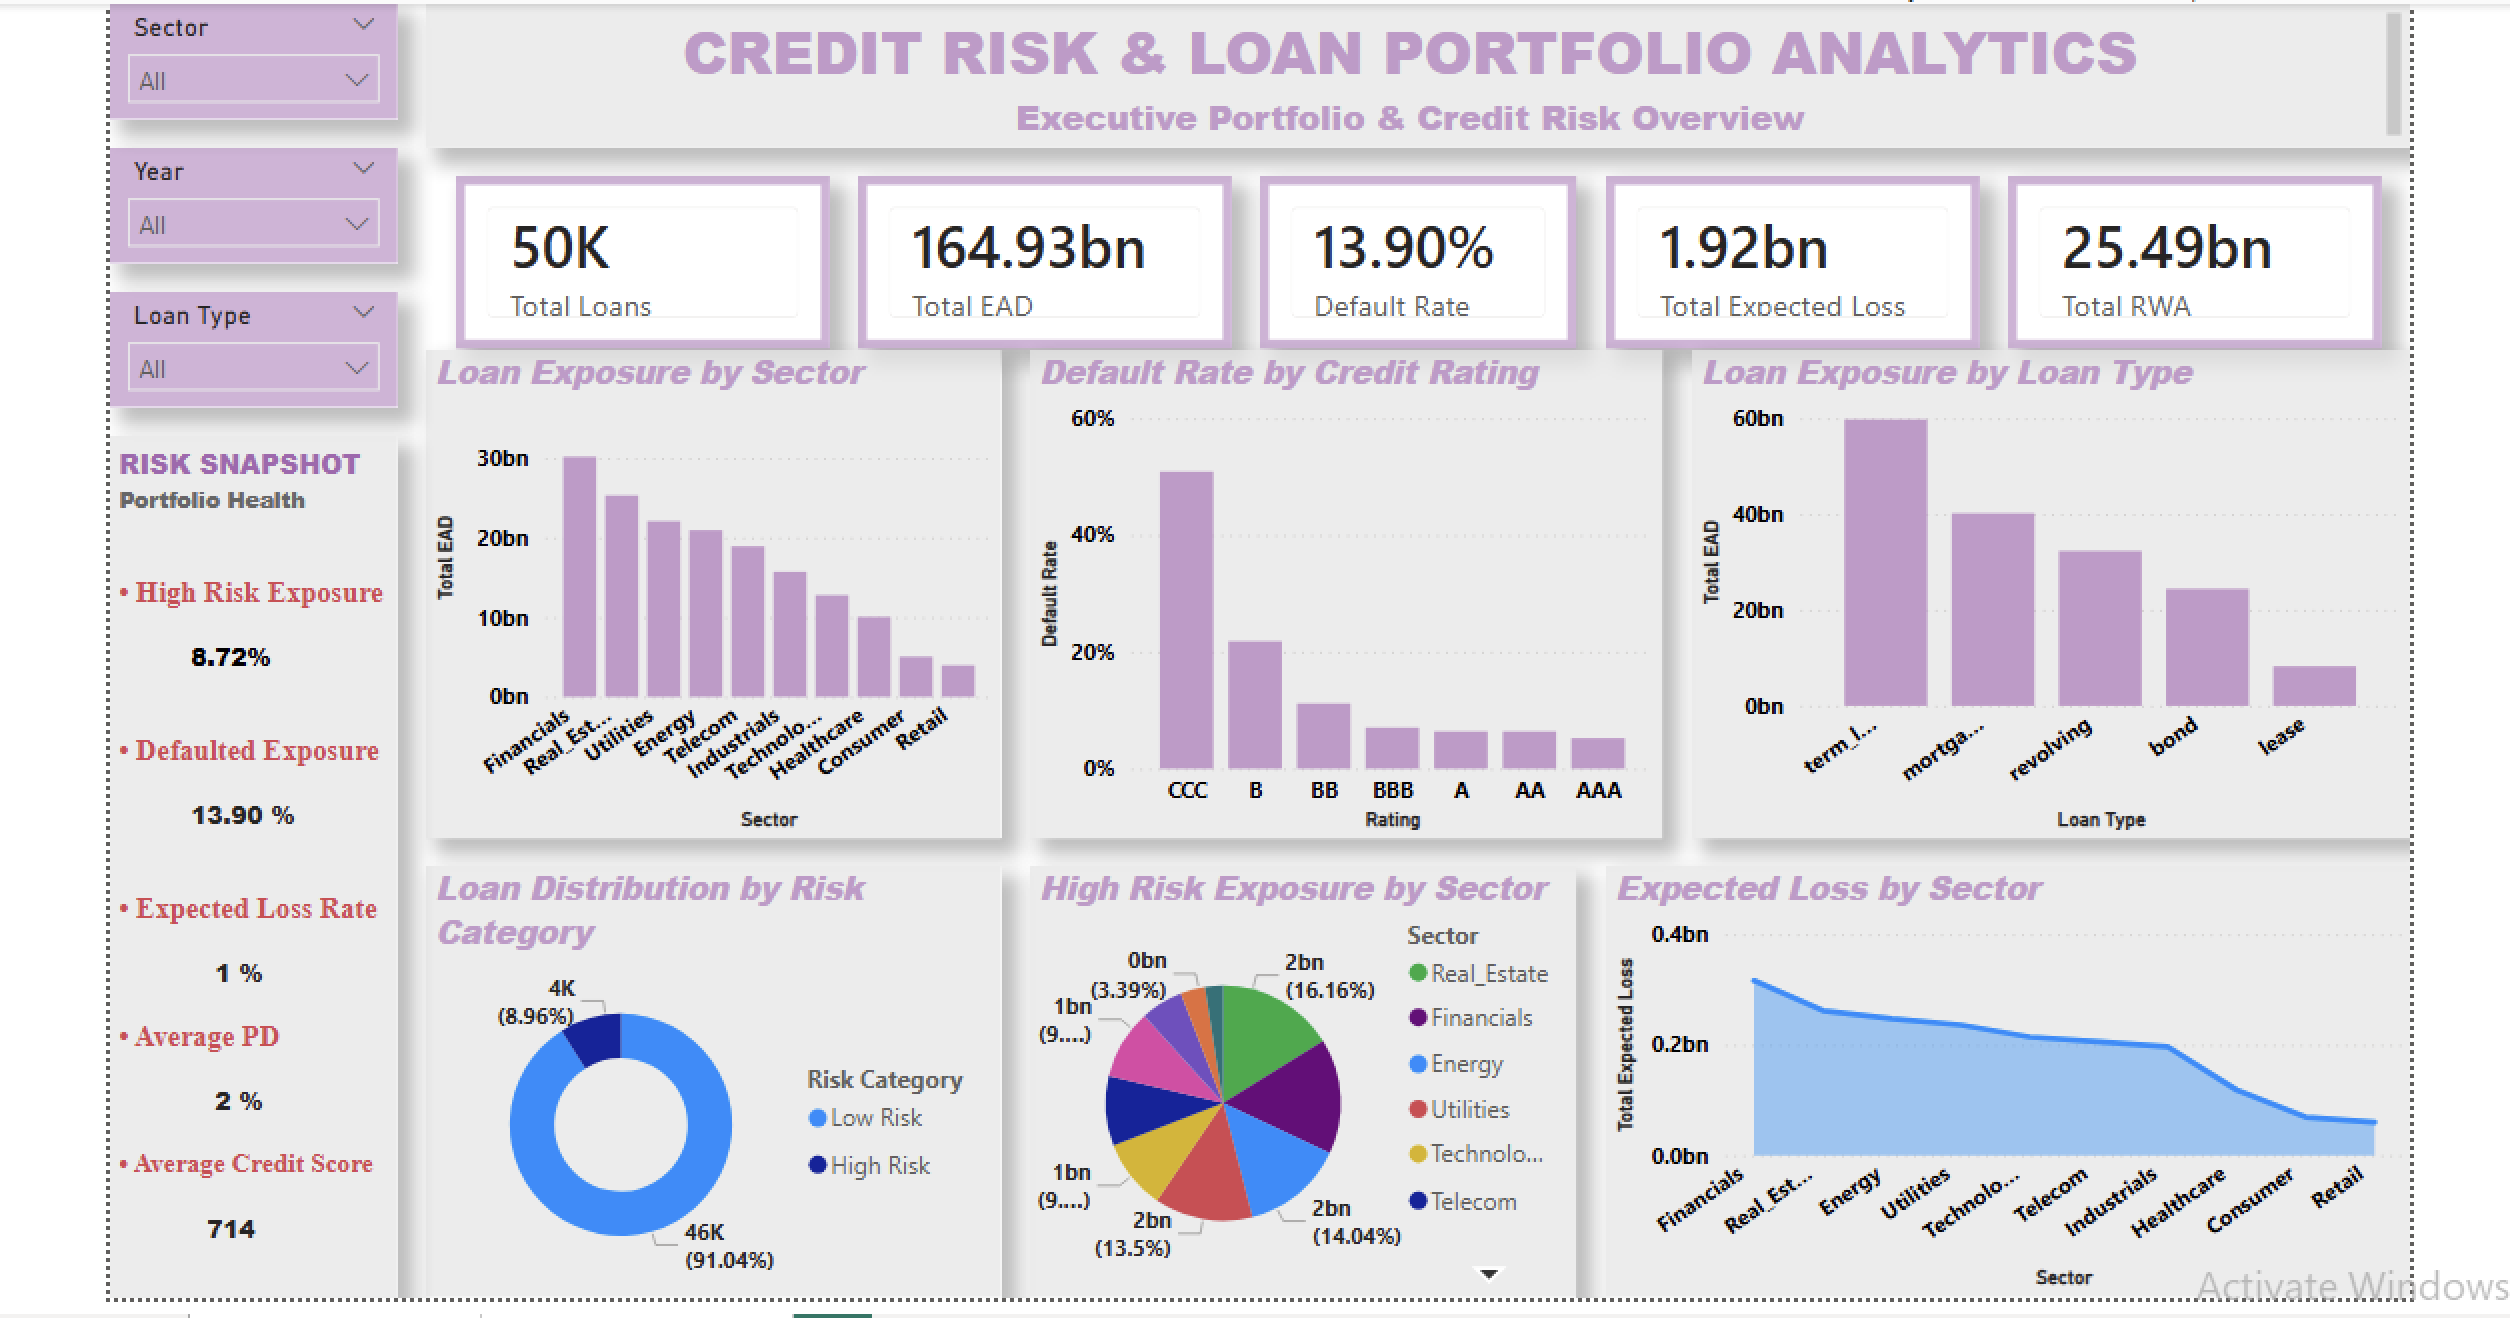

Layout of this report page (visuals, bound fields, positions):
{"tool":"powerbi","page":{"name":"Executive Overview","canvas":[1280,720],"ordinal":0},"visuals":[{"type":"cardVisual","fields":{"Data":["loan_portfolio.Total EDA"]},"box":[416,96,208,96],"z":0},{"type":"cardVisual","fields":{"Data":["loan_portfolio.Total Loans"]},"box":[192,96,208,96],"z":1000},{"type":"cardVisual","fields":{"Data":["loan_portfolio.Default Rate"]},"box":[640,96,176,96],"z":2000},{"type":"cardVisual","fields":{"Data":["loan_portfolio.Total Expected Loss"]},"box":[832,96,208,96],"z":3000},{"type":"cardVisual","fields":{"Data":["loan_portfolio.Total RWA"]},"box":[1056,96,208,96],"z":4000},{"type":"clusteredColumnChart","title":"Loan Exposure by Sector","fields":{"Category":["DimSector.Sector"],"Y":["loan_portfolio.Total EDA"]},"box":[176,192,320,272],"z":5000},{"type":"clusteredColumnChart","title":"Default Rate by Credit Rating","fields":{"Category":["DimRating.Rating"],"Y":["loan_portfolio.Default Rate"]},"box":[512,192,352,272],"z":6000},{"type":"clusteredColumnChart","title":"Loan Exposure by Loan Type","fields":{"Category":["DimLoanType.Loan Type"],"Y":["loan_portfolio.Total EDA"]},"box":[880,192,400,272],"z":7000},{"type":"donutChart","title":"Loan Distribution by Risk Category","fields":{"Category":["loan_portfolio.Risk Category"],"Y":["loan_portfolio.Total Loans"]},"box":[176,480,320,240],"z":8000},{"type":"slicer","fields":{"Values":["DateTable.Year"]},"box":[0,80,160,64],"z":9000},{"type":"slicer","fields":{"Values":["DimSector.Sector"]},"box":[0,0,160,64],"z":10000},{"type":"slicer","fields":{"Values":["DimLoanType.Loan Type"]},"box":[0,160,160,64],"z":11000},{"type":"pieChart","title":"High Risk Exposure by Sector","fields":{"Category":["DimSector.Sector"],"Y":["loan_portfolio.High Risk EDA"]},"box":[512,480,304,240],"z":12000},{"type":"textbox","box":[176,0,1104,80],"z":13000},{"type":"stackedAreaChart","title":"Expected Loss by Sector","fields":{"Category":["DimSector.Sector"],"Y":["loan_portfolio.Total Expected Loss"]},"box":[832,480,448,240],"z":13001},{"type":"textbox","box":[0,240,160,480],"z":13002}]}

Visuals, with their boxes on the page's 1280x720 design canvas (x1, y1, x2, y2). These are canvas units, not pixel positions in the 2510x1318 screenshot, which may show the page scaled, cropped or inside an application window:
cardVisual - loan_portfolio.Total EDA: 416/96/624/192
cardVisual - loan_portfolio.Total Loans: 192/96/400/192
cardVisual - loan_portfolio.Default Rate: 640/96/816/192
cardVisual - loan_portfolio.Total Expected Loss: 832/96/1040/192
cardVisual - loan_portfolio.Total RWA: 1056/96/1264/192
"Loan Exposure by Sector" clusteredColumnChart: 176/192/496/464
"Default Rate by Credit Rating" clusteredColumnChart: 512/192/864/464
"Loan Exposure by Loan Type" clusteredColumnChart: 880/192/1280/464
"Loan Distribution by Risk Category" donutChart: 176/480/496/720
slicer - DateTable.Year: 0/80/160/144
slicer - DimSector.Sector: 0/0/160/64
slicer - DimLoanType.Loan Type: 0/160/160/224
"High Risk Exposure by Sector" pieChart: 512/480/816/720
textbox: 176/0/1280/80
"Expected Loss by Sector" stackedAreaChart: 832/480/1280/720
textbox: 0/240/160/720
